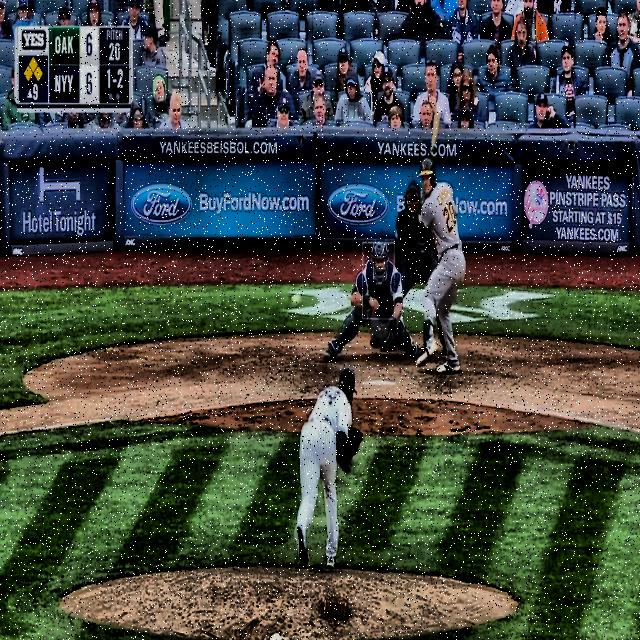baseball: (292, 294, 301, 306)
